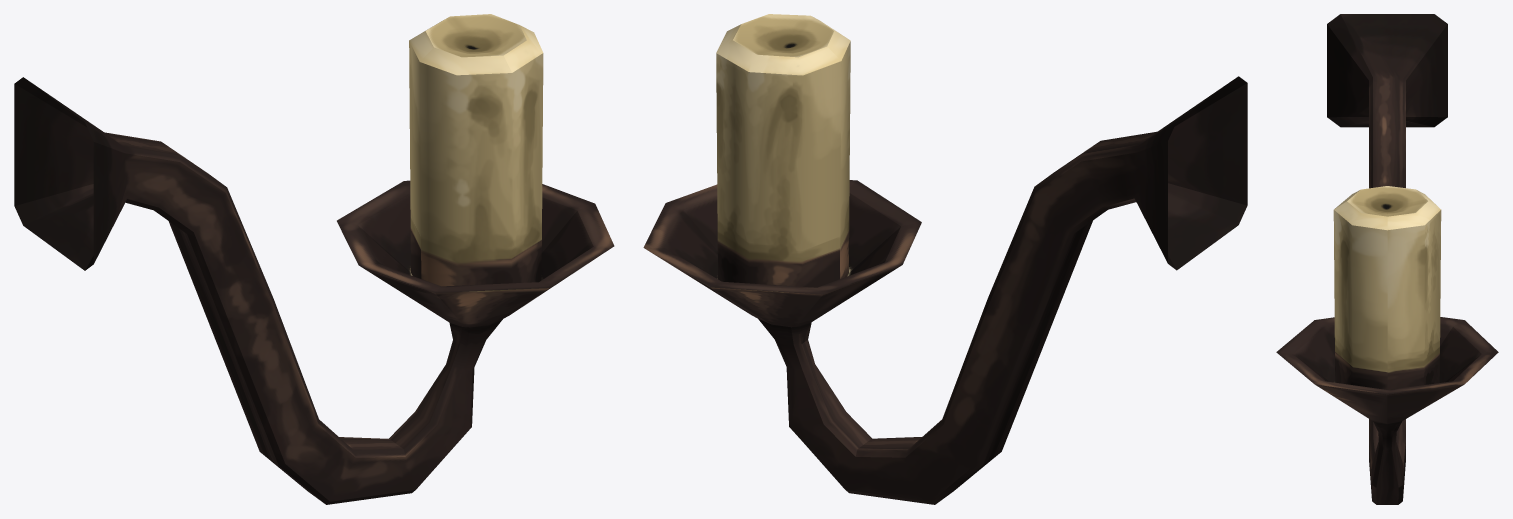
File: Candle_Wall.fbx
The picture shows the model from 3 angles, left to right: view 1: azimuth 30°, elevation 25°; view 2: azimuth 150°, elevation 25°; view 3: azimuth 270°, elevation 25°; orthographic projection. The views are drawn at different scales.
Parts seen in each view (by area): view 1: Candle_Wall; view 2: Candle_Wall; view 3: Candle_Wall.
Part boxes in pixels (<box>): Candle_Wall: <box>14,14,614,504</box>; Candle_Wall: <box>643,14,1247,504</box>; Candle_Wall: <box>1276,14,1498,504</box>.
Bounding box in the file's own units: 1.87 × 1.57 × 0.8774.
